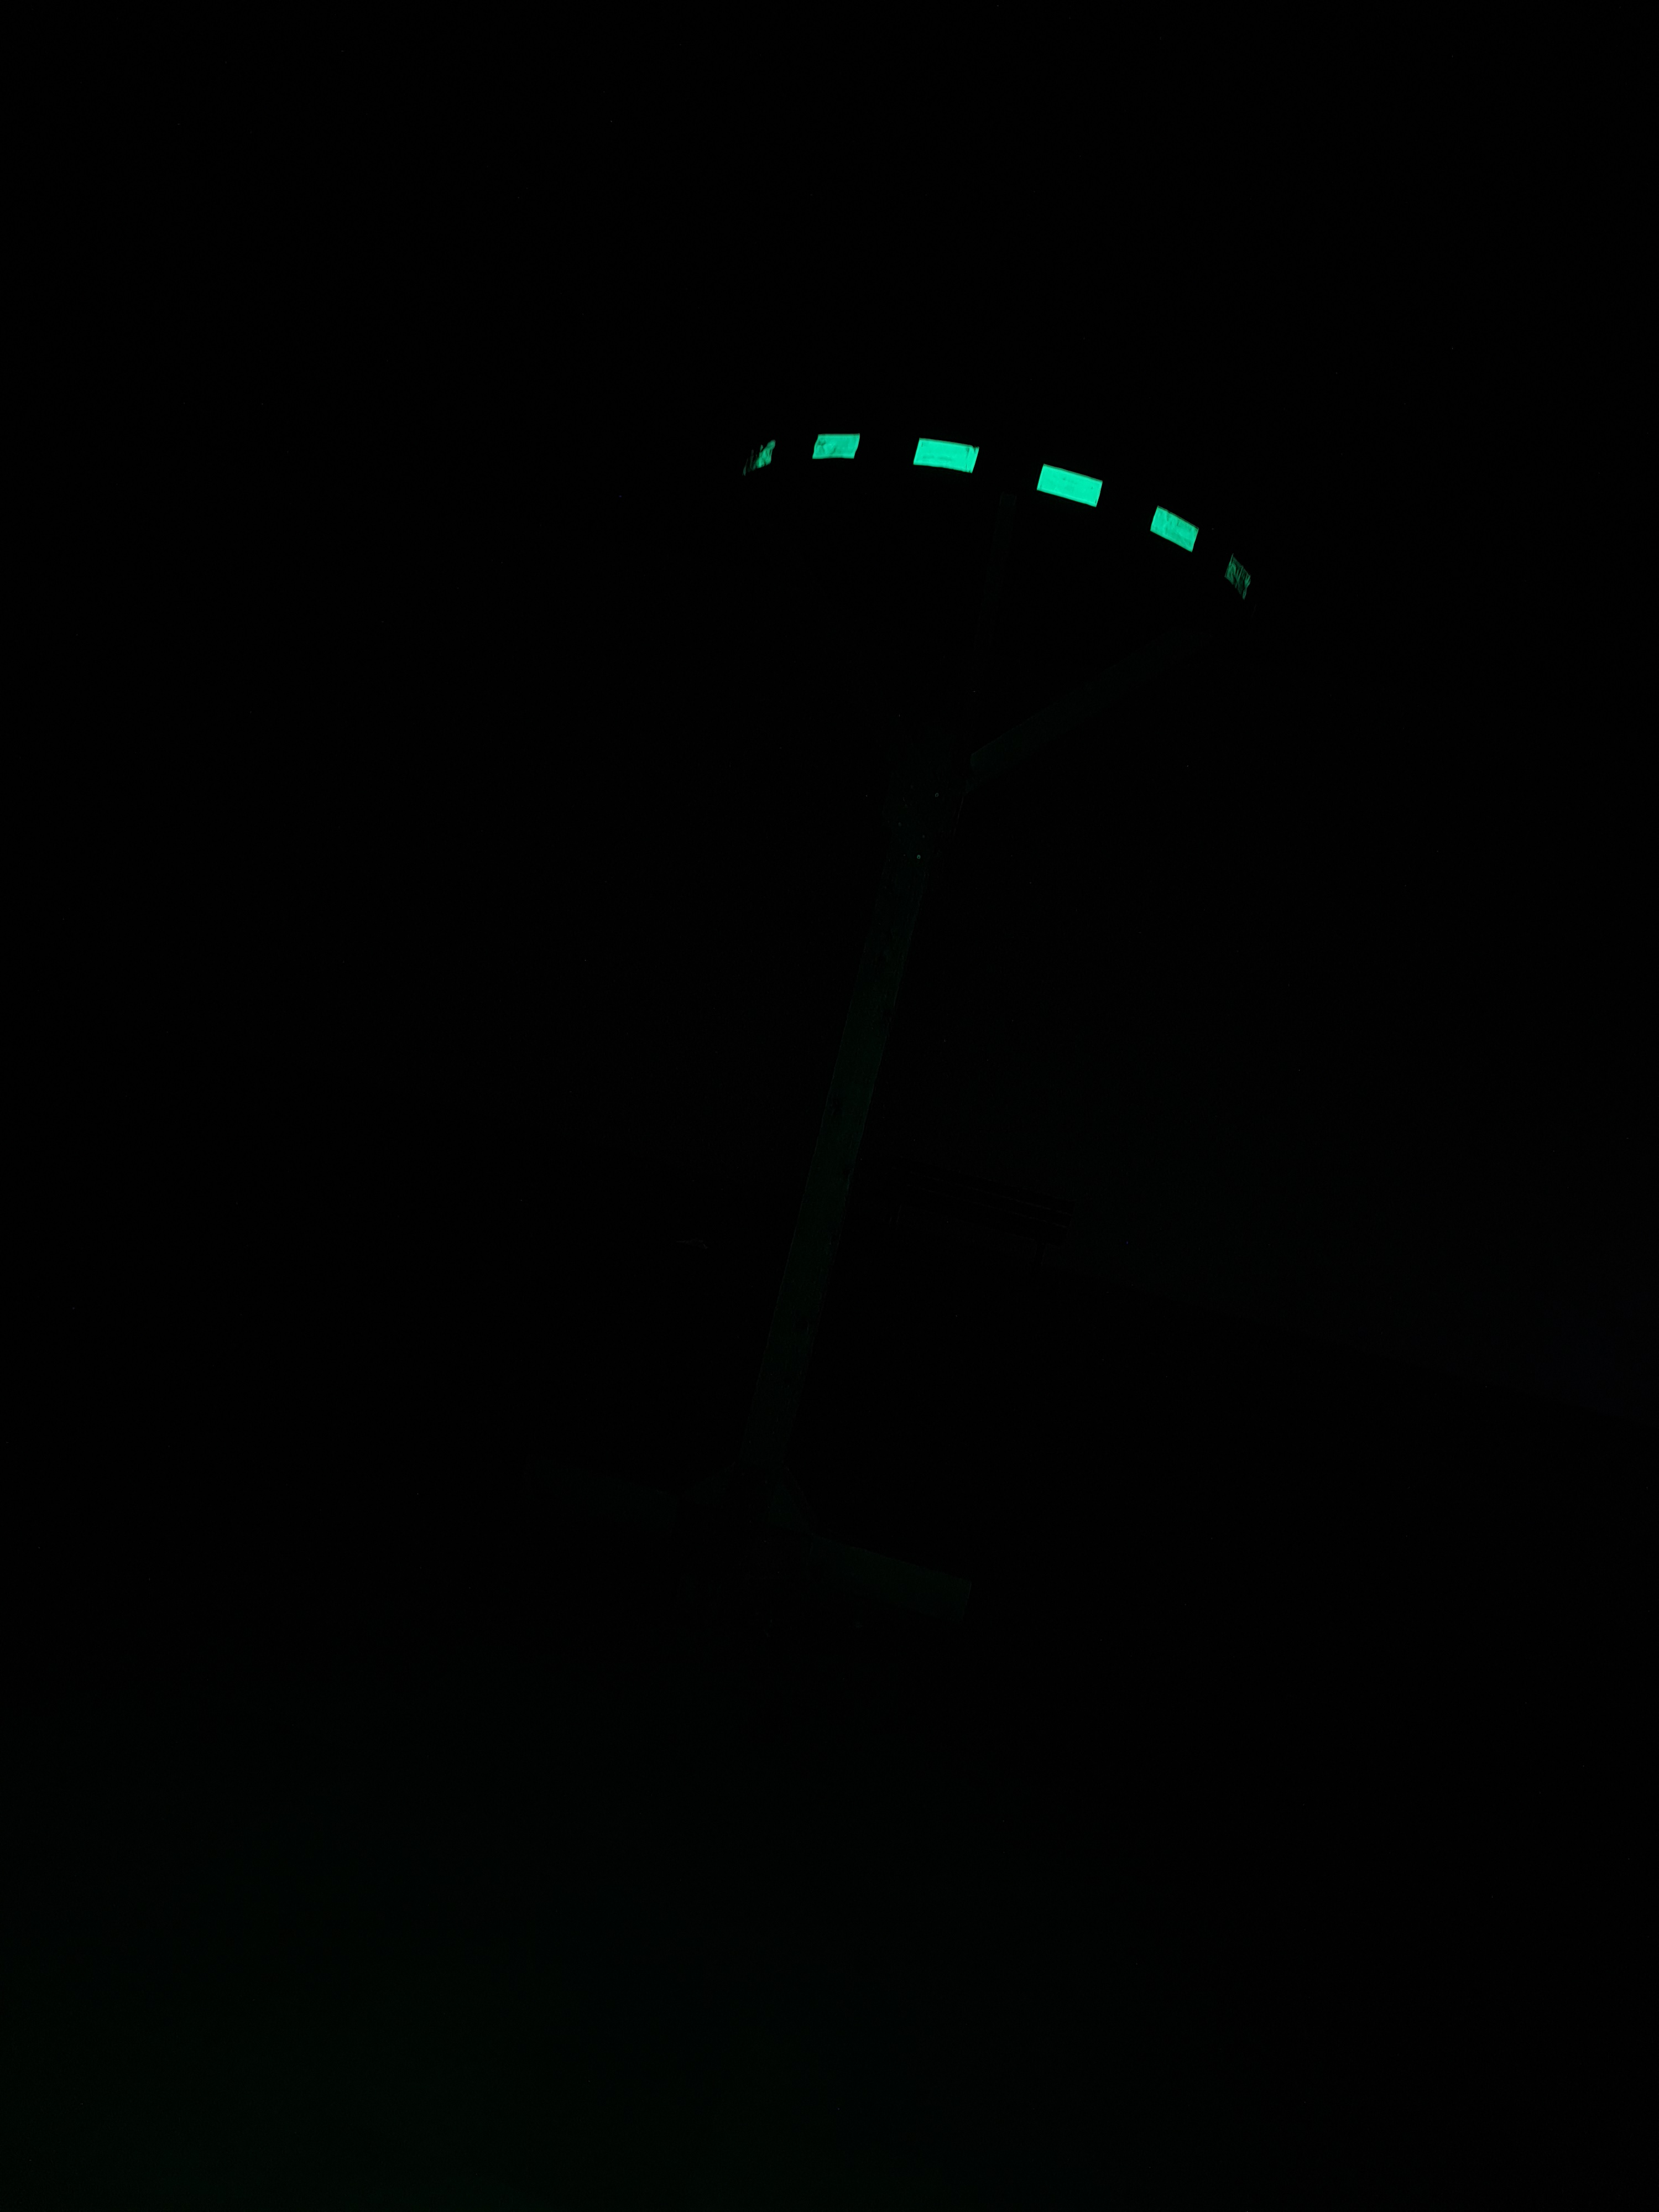hoop: (742, 425, 1253, 603)
